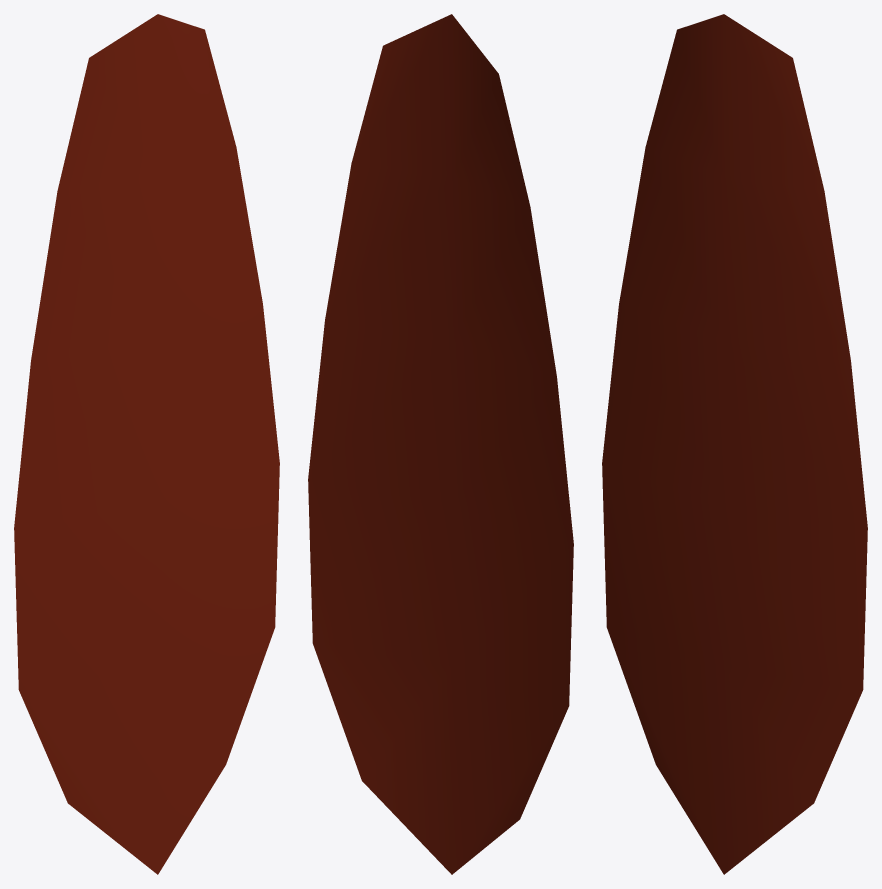
The model's file is pheasant_feather_flight_tertiary_019.obj.
3 renders of one model, left to right at view 1: azimuth 30°, elevation 25°; view 2: azimuth 150°, elevation 25°; view 3: azimuth 330°, elevation 25°, orthographic.
Parts seen in each view (by area): view 1: feather_flight_tertiary_019; view 2: feather_flight_tertiary_019; view 3: feather_flight_tertiary_019.
Part boxes in pixels (x1,y1,x2,y2): feather_flight_tertiary_019: [14, 14, 279, 874]; feather_flight_tertiary_019: [308, 14, 573, 874]; feather_flight_tertiary_019: [602, 14, 867, 874].
Size of the model in its own units: 0.00887 by 0.0274 by 0.000634.
